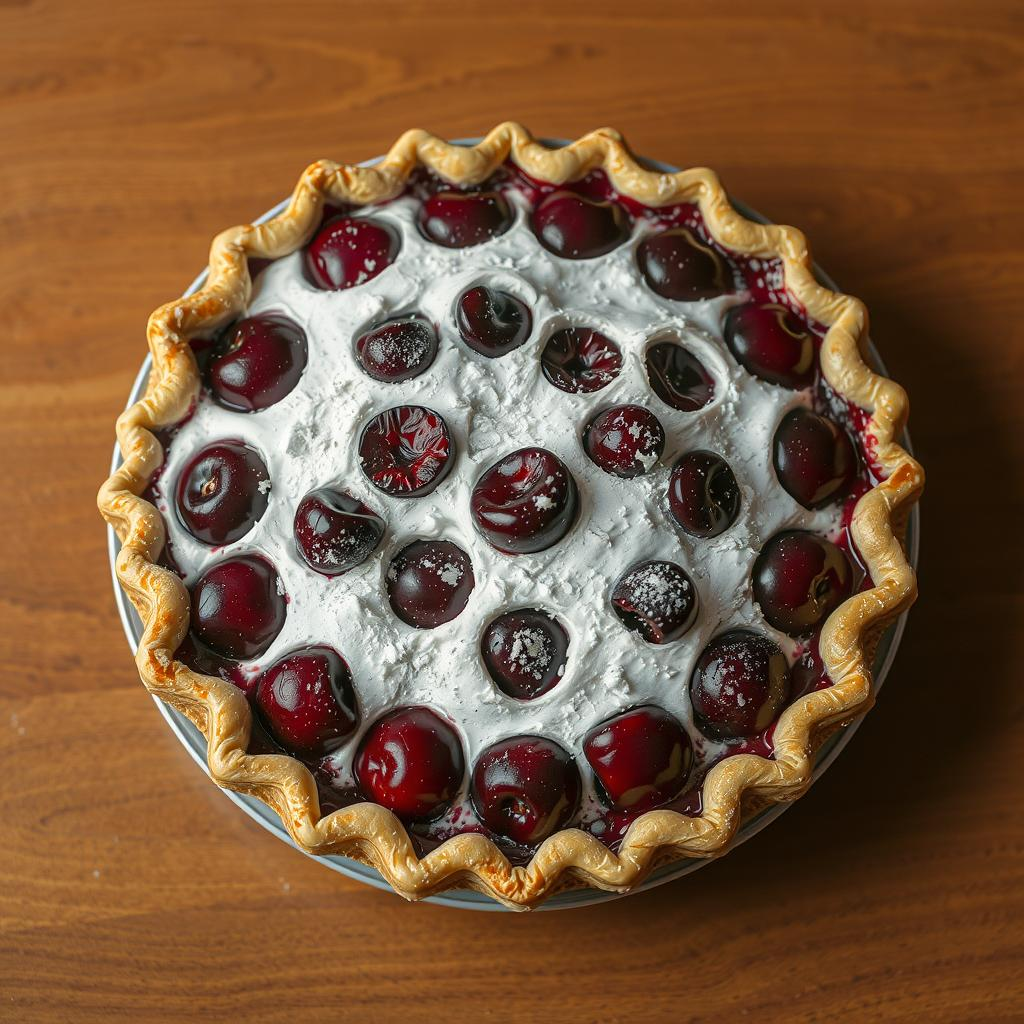pie: (91, 117, 924, 917)
